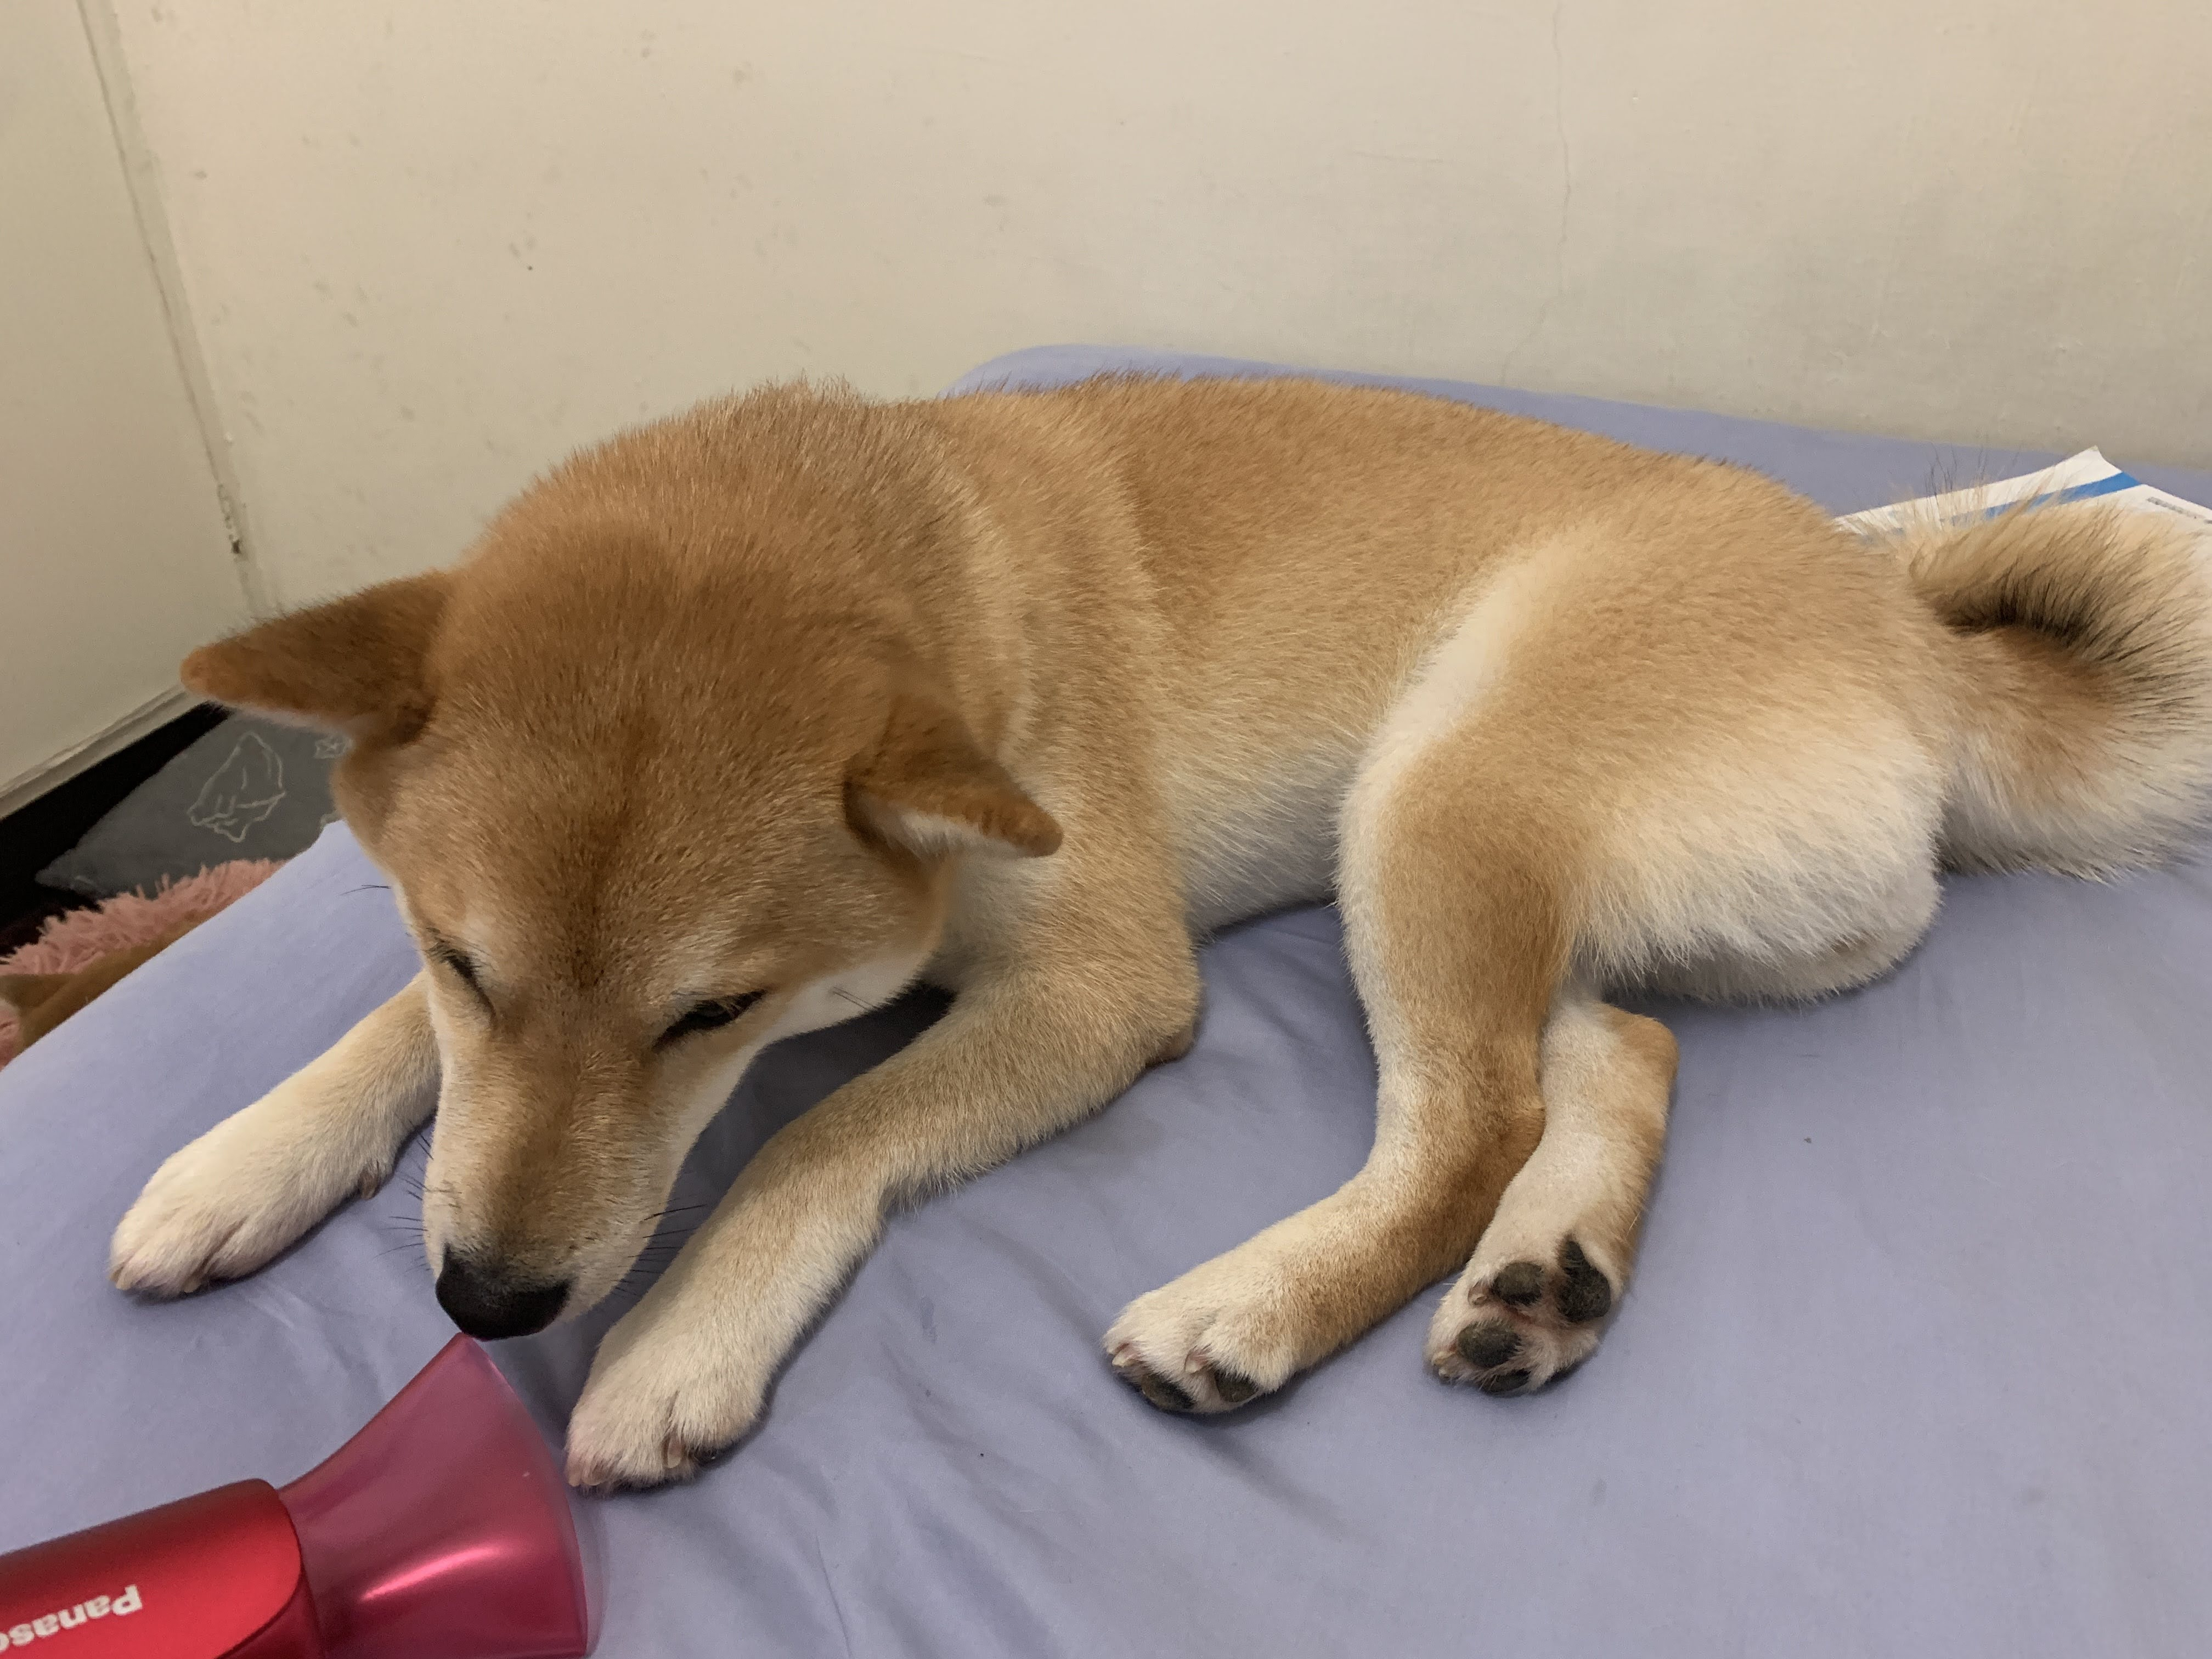Get down: (103, 342, 2212, 1467)
